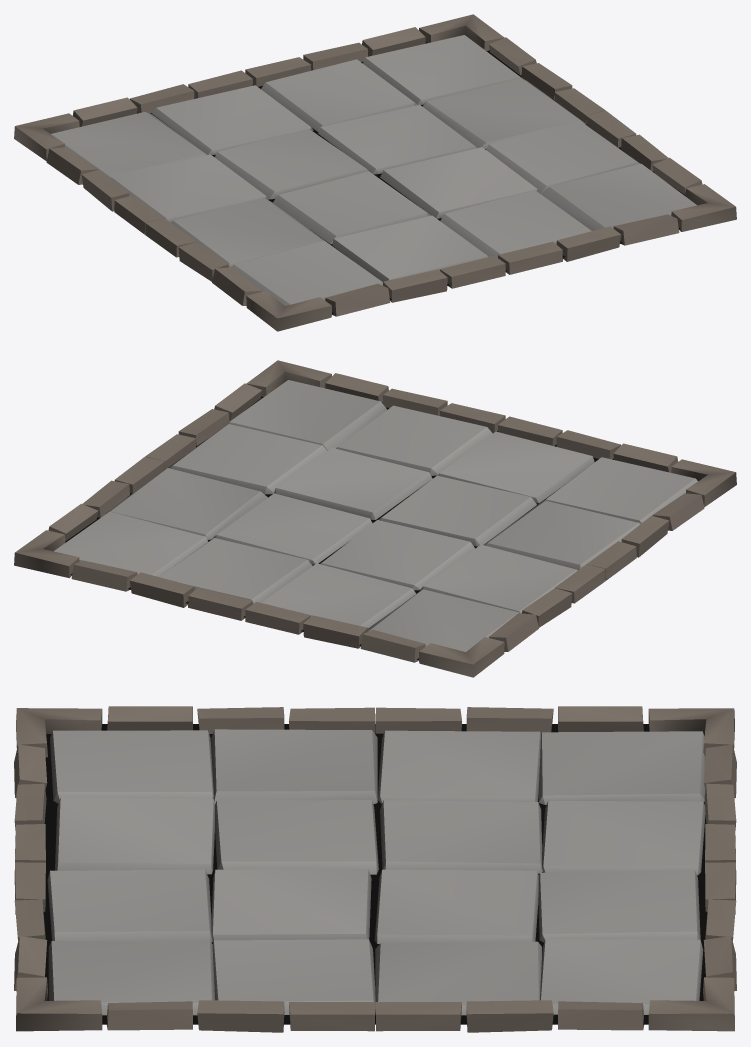
The model's file is floor_tiles_frame_LOW.FBX.
3 views of the same model, one above another, from view 1: azimuth 30°, elevation 25°; view 2: azimuth 150°, elevation 25°; view 3: azimuth 270°, elevation 25° (orthographic). The views are drawn at different scales.
Visible parts, largest first — view 1: floor_tiles_frame_LOW; view 2: floor_tiles_frame_LOW; view 3: floor_tiles_frame_LOW.
Boxes of the visible parts, bbox=[...] form: floor_tiles_frame_LOW: bbox=[14, 14, 736, 331]; floor_tiles_frame_LOW: bbox=[14, 360, 736, 677]; floor_tiles_frame_LOW: bbox=[14, 706, 736, 1032].
Bounding box in the file's own units: 4.09 × 0.1409 × 4.06.
